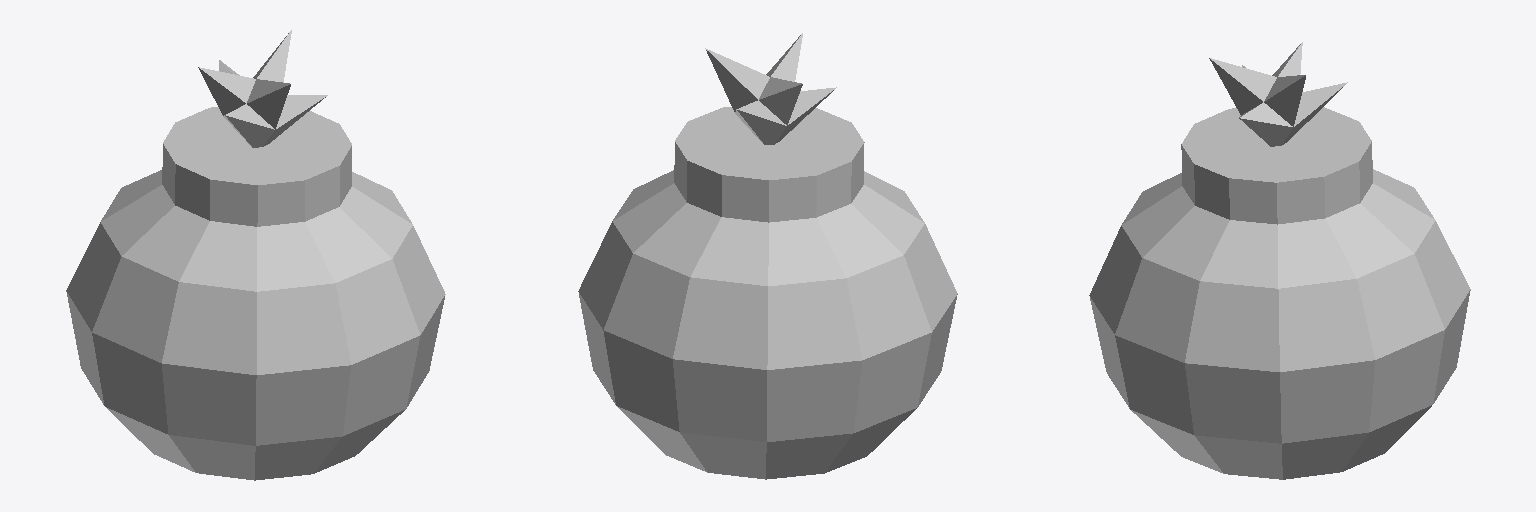
The model's file is bomb_item.obj.
3 renders of one model, left to right at view 1: azimuth 30°, elevation 25°; view 2: azimuth 150°, elevation 25°; view 3: azimuth 270°, elevation 25°, orthographic.
Parts seen in each view (by area): view 1: Mesh.469_DrawCall_317; view 2: Mesh.469_DrawCall_317; view 3: Mesh.469_DrawCall_317.
Part boxes in pixels (x1,y1,x2,y2): Mesh.469_DrawCall_317: (66, 30, 445, 480); Mesh.469_DrawCall_317: (578, 33, 957, 479); Mesh.469_DrawCall_317: (1089, 42, 1470, 479).
Size of the model in its own units: 10.39 by 12.45 by 10.46.